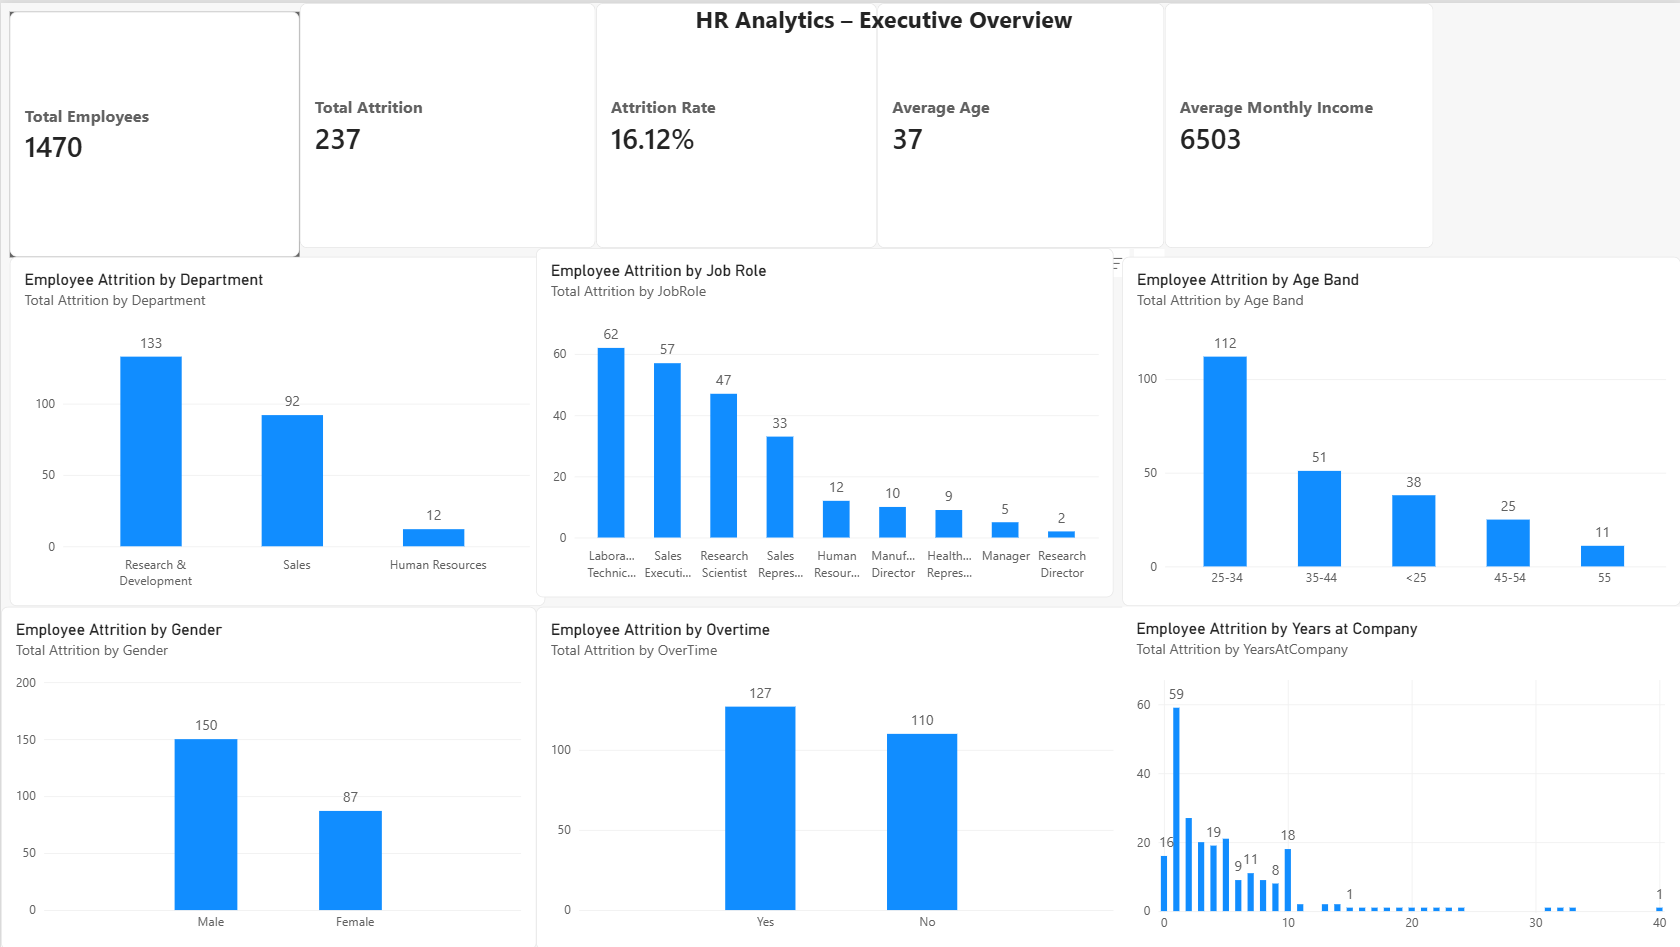

The page's visual inventory and layout, read from the dashboard file:
{"tool":"powerbi","page":{"name":"Page 1","canvas":[1920,1080],"ordinal":0},"visuals":[{"type":"cardVisual","fields":{"Data":["HR.Total Employees"]},"box":[9.7,9.7,331.4,280.6],"z":0},{"type":"cardVisual","fields":{"Data":["HR.Total Attrition"]},"box":[341,0,338.6,280.6],"z":1},{"type":"cardVisual","fields":{"Data":["HR.Attrition Rate"]},"box":[679.7,0,321.7,280.6],"z":2},{"type":"cardVisual","fields":{"Data":["HR.Average Age"]},"box":[1001.4,0,329,280.6],"z":3},{"type":"cardVisual","fields":{"Data":["HR.Average Monthly Income"]},"box":[1330.3,0,307.2,280.6],"z":4},{"type":"clusteredColumnChart","title":"Employee Attrition by Department","fields":{"Category":["HR.Department"],"Y":["HR.Total Attrition"]},"box":[9.7,290.3,611.9,399.1],"z":5},{"type":"clusteredColumnChart","title":"Employee Attrition by Job Role","fields":{"Category":["HR.JobRole"],"Y":["HR.Total Attrition"]},"box":[611.9,280.6,660.3,399.1],"z":6},{"type":"clusteredColumnChart","title":"Employee Attrition by Age Band","fields":{"Category":["HR.Age Band"],"Y":["HR.Total Attrition"]},"box":[1281.9,290.3,638.6,399.1],"z":7},{"type":"clusteredColumnChart","title":"Employee Attrition by Gender","fields":{"Category":["HR.Gender"],"Y":["HR.Total Attrition"]},"box":[0,689.3,611.9,391.8],"z":8},{"type":"clusteredColumnChart","title":"Employee Attrition by Overtime","fields":{"Category":["HR.OverTime"],"Y":["HR.Total Attrition"]},"box":[611.9,689.3,677.3,391.8],"z":9},{"type":"clusteredColumnChart","title":"Employee Attrition by Years at Company","fields":{"Category":["HR.YearsAtCompany"],"Y":["HR.Total Attrition"]},"box":[1281.9,689.3,638.6,391.8],"z":10},{"type":"textbox","box":[99.2,0,1821.3,38.7],"z":15}]}

Visuals, with their boxes in screenshot pixels (x1, y1, x2, y2), scaled from the page's 1920x1080 canvas onto the 1680x947 screenshot:
cardVisual - HR.Total Employees: crop(8, 9, 298, 255)
cardVisual - HR.Total Attrition: crop(298, 0, 595, 246)
cardVisual - HR.Attrition Rate: crop(595, 0, 876, 246)
cardVisual - HR.Average Age: crop(876, 0, 1164, 246)
cardVisual - HR.Average Monthly Income: crop(1164, 0, 1433, 246)
"Employee Attrition by Department" clusteredColumnChart: crop(8, 255, 544, 605)
"Employee Attrition by Job Role" clusteredColumnChart: crop(535, 246, 1113, 596)
"Employee Attrition by Age Band" clusteredColumnChart: crop(1122, 255, 1679, 605)
"Employee Attrition by Gender" clusteredColumnChart: crop(0, 604, 535, 946)
"Employee Attrition by Overtime" clusteredColumnChart: crop(535, 604, 1128, 946)
"Employee Attrition by Years at Company" clusteredColumnChart: crop(1122, 604, 1679, 946)
textbox: crop(87, 0, 1679, 34)
